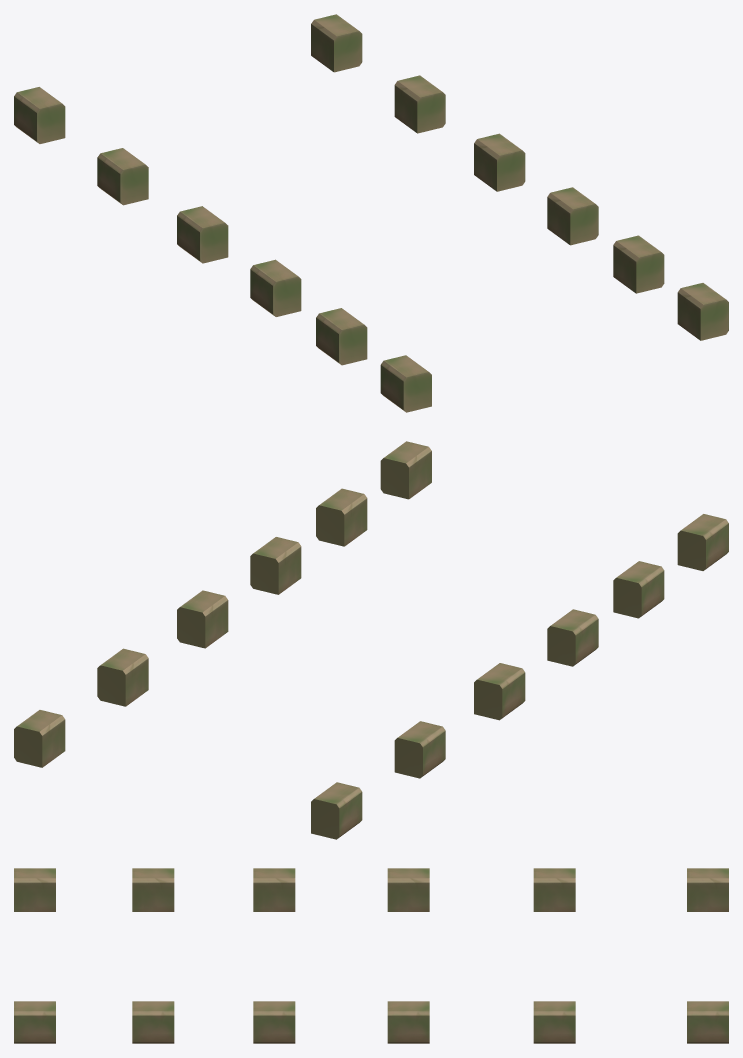
The model's file is Main_1005_obj_07.fbx.
3 renders of one model, top to bottom at view 1: azimuth 30°, elevation 25°; view 2: azimuth 150°, elevation 25°; view 3: azimuth 270°, elevation 25°, orthographic. The views are drawn at different scales.
Visible parts, largest first — view 1: Cube.001, Cube.012, Cube.011, Cube.003, Cube.002, Cube.021; view 2: Cube.021, Cube.003, Cube.001, Cube.012, Cube.002, Cube.011; view 3: Cube.012, Cube.001, Cube.002, Cube.003, Cube.021, Cube.011.
Boxes of the visible parts, x1=… form: Cube.001: x1=250, y1=187, x2=598, y2=316; Cube.012: x1=316, y1=235, x2=664, y2=365; Cube.011: x1=14, y1=14, x2=362, y2=143; Cube.003: x1=97, y1=75, x2=445, y2=205; Cube.002: x1=177, y1=133, x2=525, y2=263; Cube.021: x1=380, y1=283, x2=728, y2=412; Cube.021: x1=380, y1=441, x2=728, y2=570; Cube.003: x1=97, y1=648, x2=445, y2=778; Cube.001: x1=250, y1=537, x2=598, y2=666; Cube.012: x1=316, y1=488, x2=664, y2=618; Cube.002: x1=177, y1=590, x2=525, y2=720; Cube.011: x1=14, y1=710, x2=362, y2=839; Cube.012: x1=132, y1=868, x2=174, y2=1043; Cube.001: x1=253, y1=868, x2=295, y2=1043; Cube.002: x1=387, y1=868, x2=429, y2=1043; Cube.003: x1=533, y1=868, x2=575, y2=1043; Cube.021: x1=14, y1=868, x2=55, y2=1043; Cube.011: x1=687, y1=868, x2=728, y2=1043.
Size of the model in its own units: 190 by 19.66 by 393.
